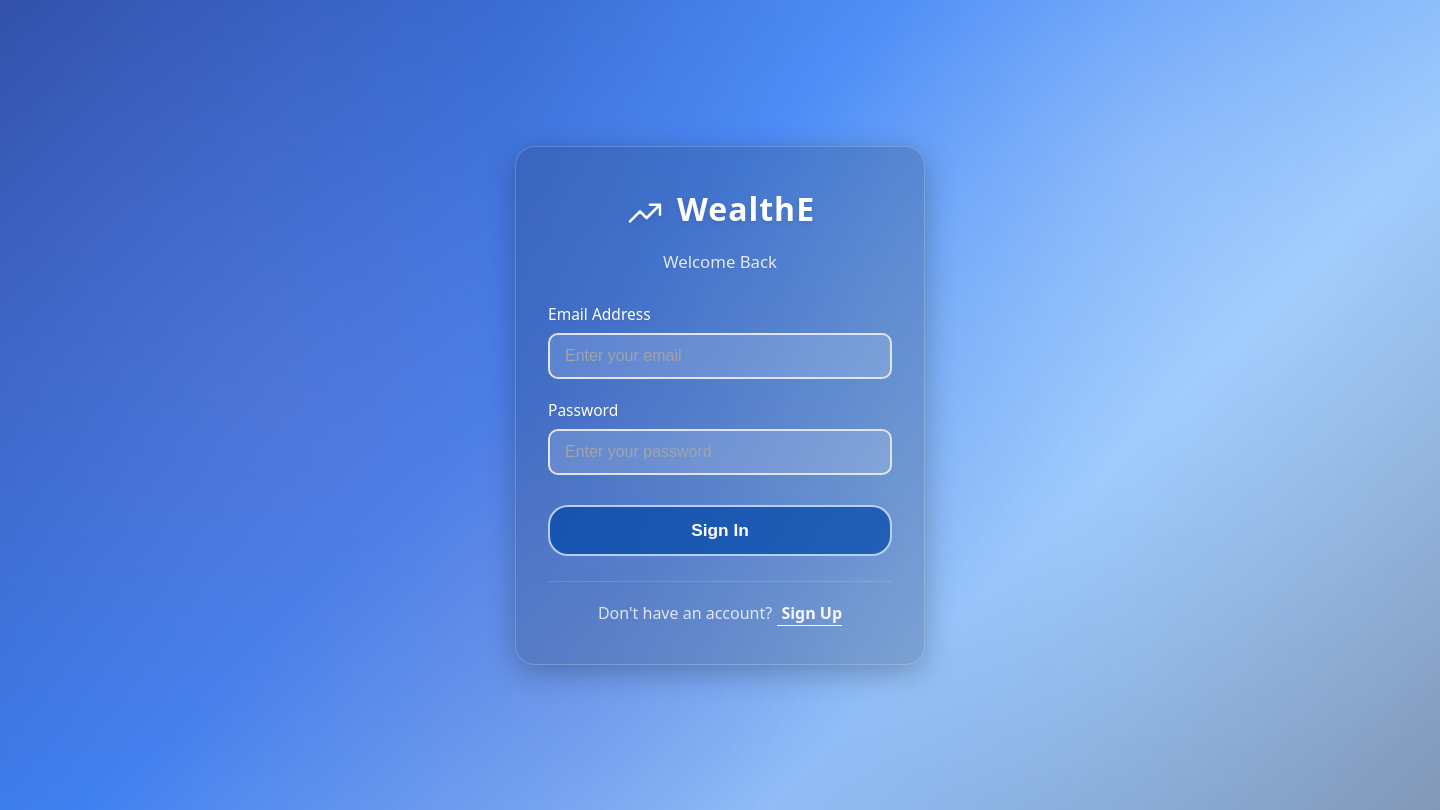
Test: Login Component › clears errors when user starts typing
// First trigger validation error
Click the button "Sign In" at (720, 530), box [548,504,892,556]
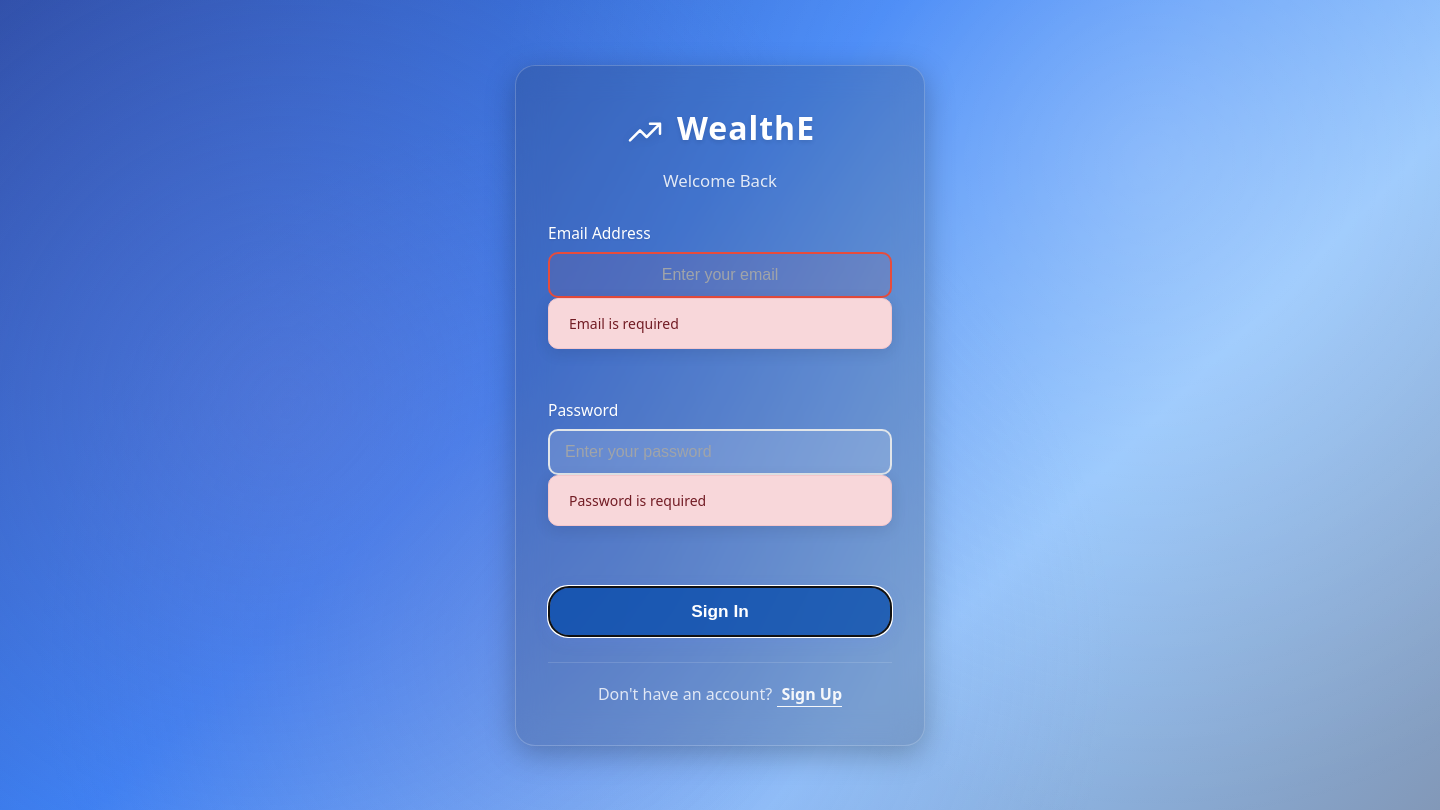
expect the text "Email is required" is shown: met, box [548,298,892,348]
// Then start typing to clear error
Type "test@example.com" into the field labelled "Email Address" at (720, 274), box [548,252,892,298]
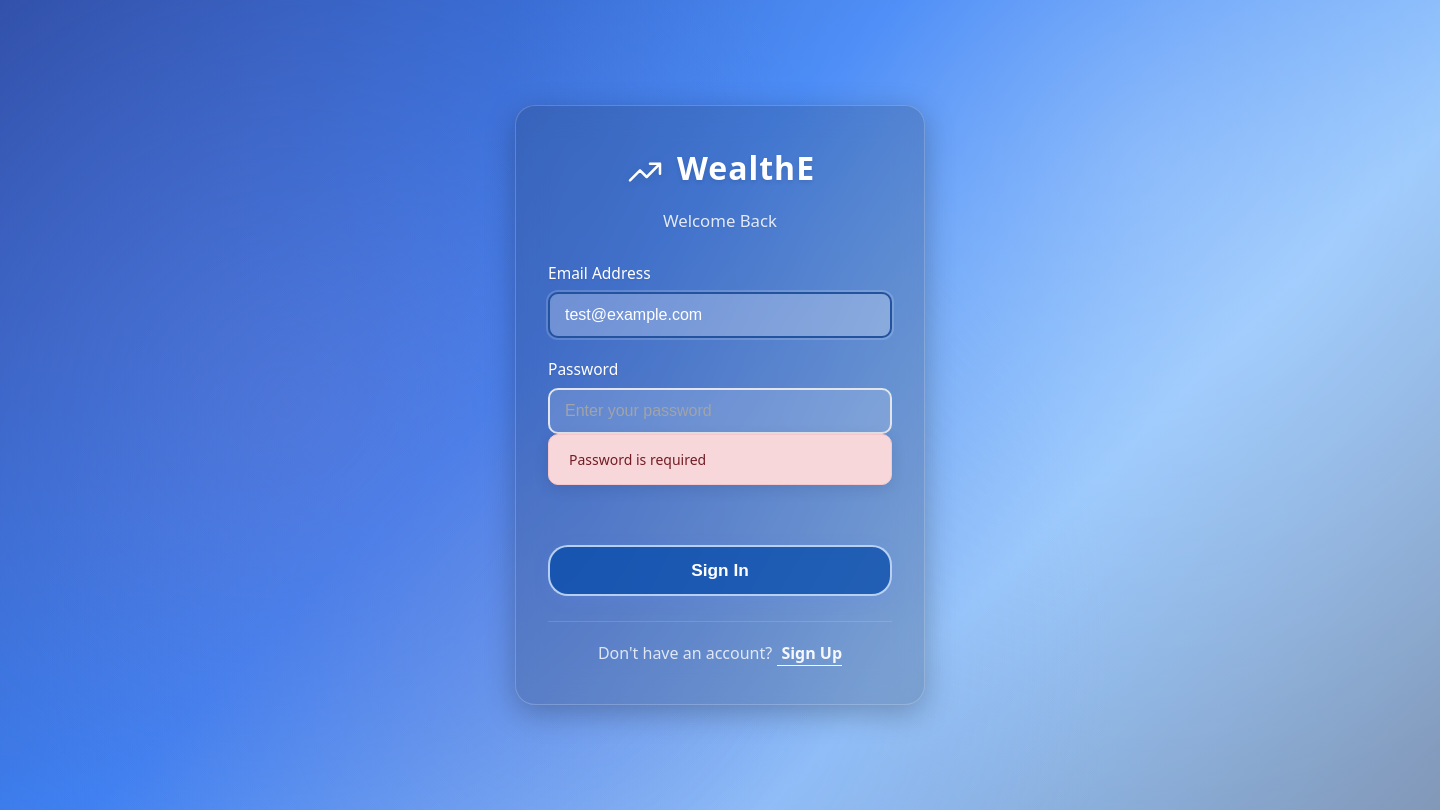
expect the text "Email is required" is gone: met
